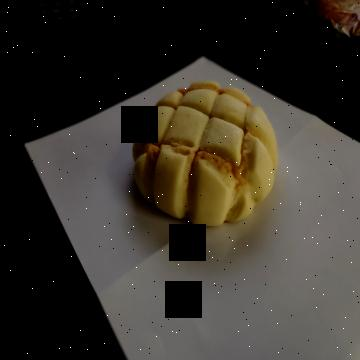melon_bread: (132, 81, 279, 226)
